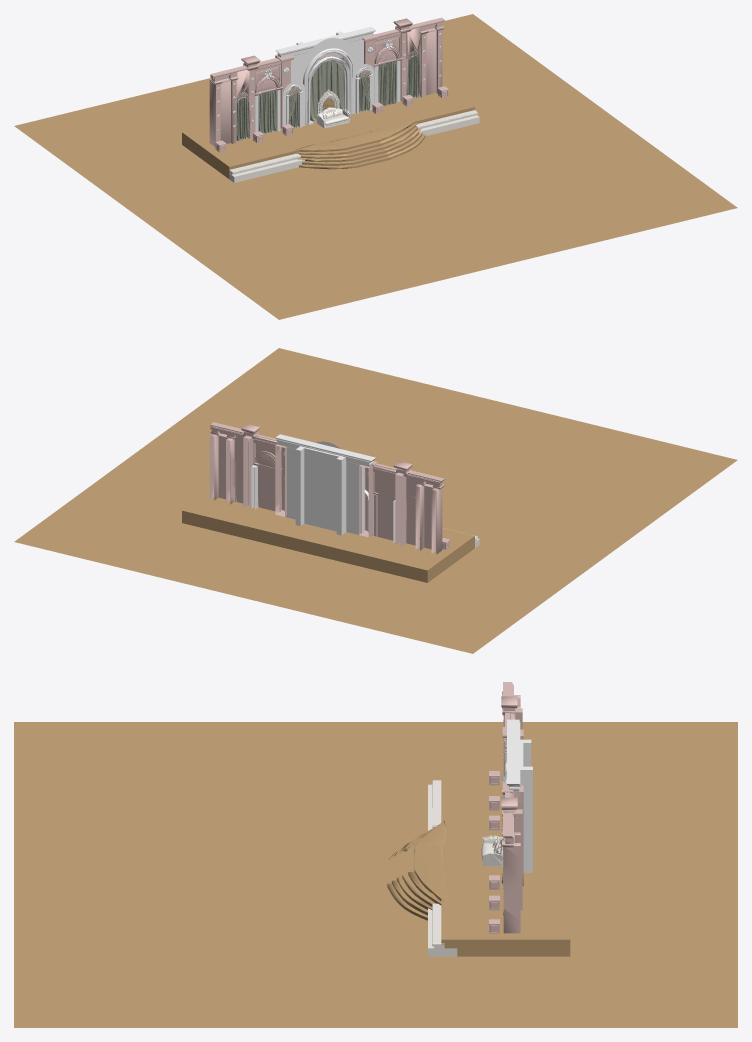
The model's file is gate.glb.
3 renders of one model, top to bottom at view 1: azimuth 30°, elevation 25°; view 2: azimuth 150°, elevation 25°; view 3: azimuth 270°, elevation 25°, orthographic. The views are drawn at different scales.
Visible parts, largest first — view 1: pPlane1, pCube1, polySurface31, pCube19, a, pCube65, pPlane2; view 2: pPlane1, polySurface31, pCube1, pCube19; view 3: pPlane1, pCube1, polySurface31, pCube19, pCube65, pPlane2.
Part boxes in pixels (x1,y1,x2,y2): pPlane1: (14,14,737,319); pCube1: (182,83,474,178); polySurface31: (209,17,448,152); pCube19: (217,26,441,132); a: (236,50,419,140); pCube65: (229,107,479,182); pPlane2: (344,140,389,168); pPlane1: (14,348,737,653); polySurface31: (209,422,449,554); pCube1: (182,490,474,582); pCube19: (251,434,395,542); pPlane1: (14,722,737,1027); pCube1: (387,776,570,956); polySurface31: (488,682,523,933); pCube19: (502,715,532,909); pCube65: (428,780,502,956); pPlane2: (386,848,413,883).
Size of the model in its own units: 68.39 by 13.51 by 68.39.
